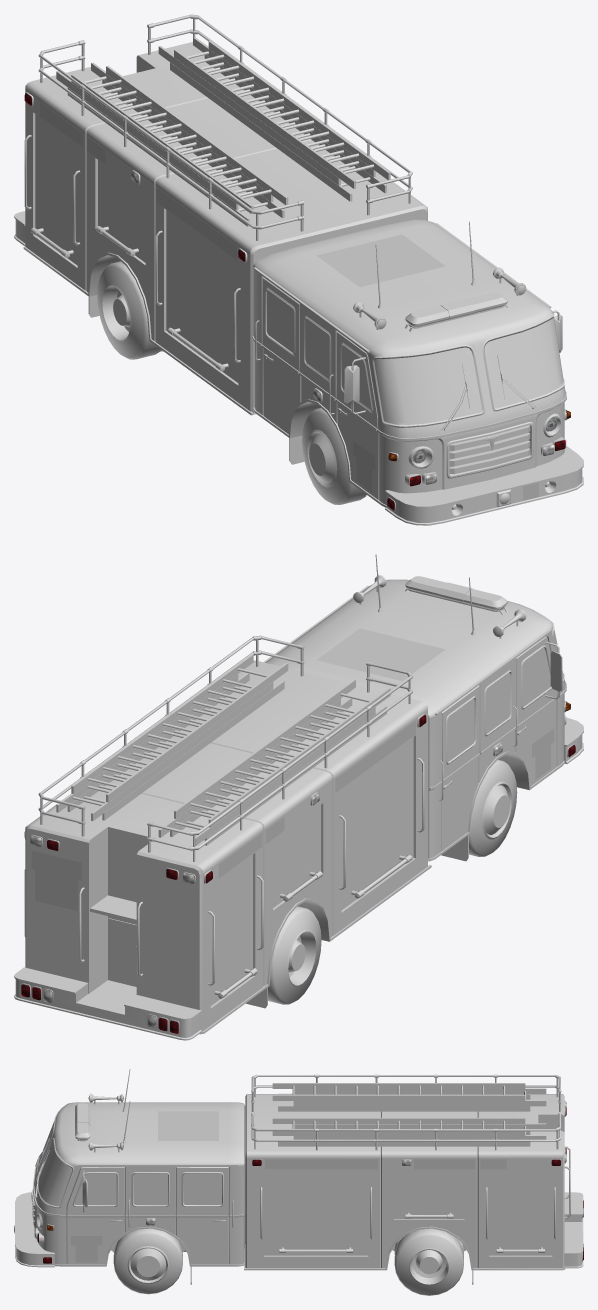
File: Fire_Truck.fbx
The picture shows the model from 3 angles, top to bottom: view 1: azimuth 30°, elevation 25°; view 2: azimuth 150°, elevation 25°; view 3: azimuth 270°, elevation 25°; orthographic projection. The views are drawn at different scales.
Visible parts, largest first — view 1: Fire_Truck; view 2: Fire_Truck; view 3: Fire_Truck.
Part boxes in pixels (bbox=[...]): Fire_Truck: bbox=[14, 14, 583, 525]; Fire_Truck: bbox=[14, 554, 583, 1040]; Fire_Truck: bbox=[14, 1069, 583, 1295].
Size of the model in its own units: 271 by 307 by 873.
